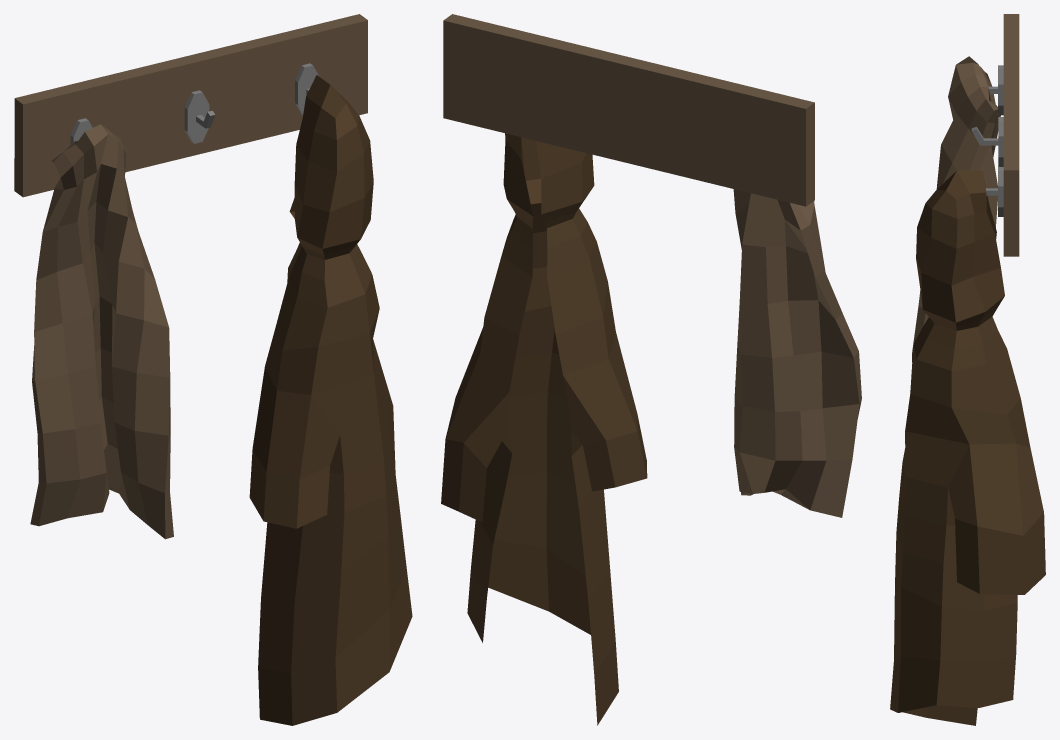
Rendered from CoatHook_Full.glb.
3 renders of one model, left to right at view 1: azimuth 30°, elevation 25°; view 2: azimuth 150°, elevation 25°; view 3: azimuth 270°, elevation 25°, orthographic. The views are drawn at different scales.
Visible parts, largest first — view 1: CoatHook_Full.001; view 2: CoatHook_Full.001; view 3: CoatHook_Full.001.
Boxes of the visible parts, <box> form: CoatHook_Full.001: <box>14,14,412,725</box>; CoatHook_Full.001: <box>441,14,861,725</box>; CoatHook_Full.001: <box>890,14,1045,725</box>.
Bounding box in the file's own units: 1.25 × 2.1 × 0.4857.
3 materials, 3 textured.
